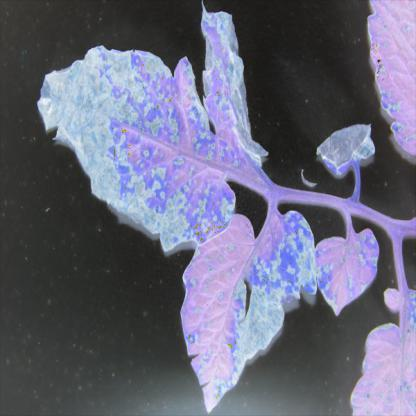Tomato Septoria leaf spot: (27, 47, 239, 250), (174, 202, 326, 416), (194, 6, 280, 168), (362, 3, 416, 181), (348, 280, 416, 415), (310, 222, 378, 322)
